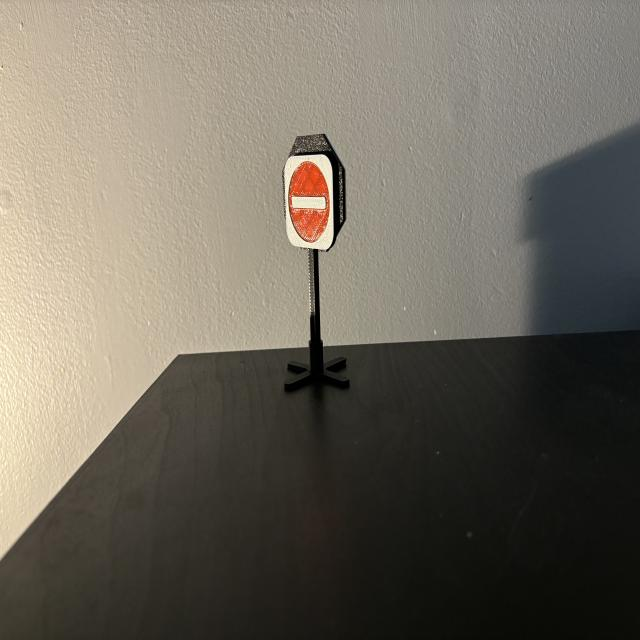sign_noentry: (286, 156, 334, 250)
